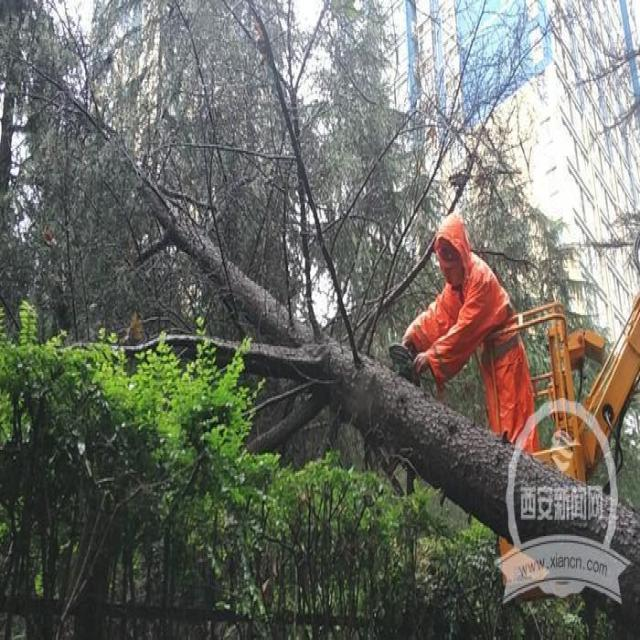fallen_object: (130, 11, 640, 640)
